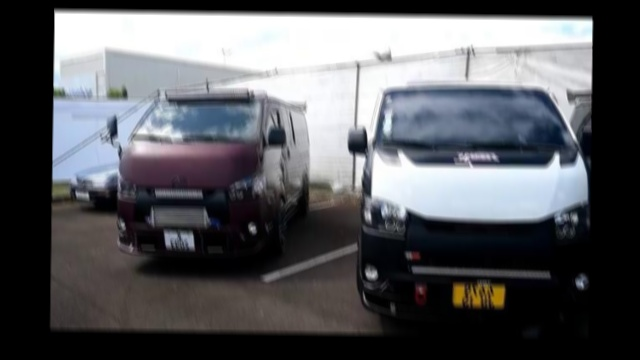van: (351, 78, 583, 308), (102, 77, 315, 273)
